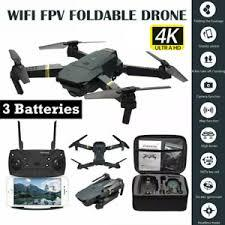drone: (6, 34, 189, 127), (70, 133, 130, 173)
